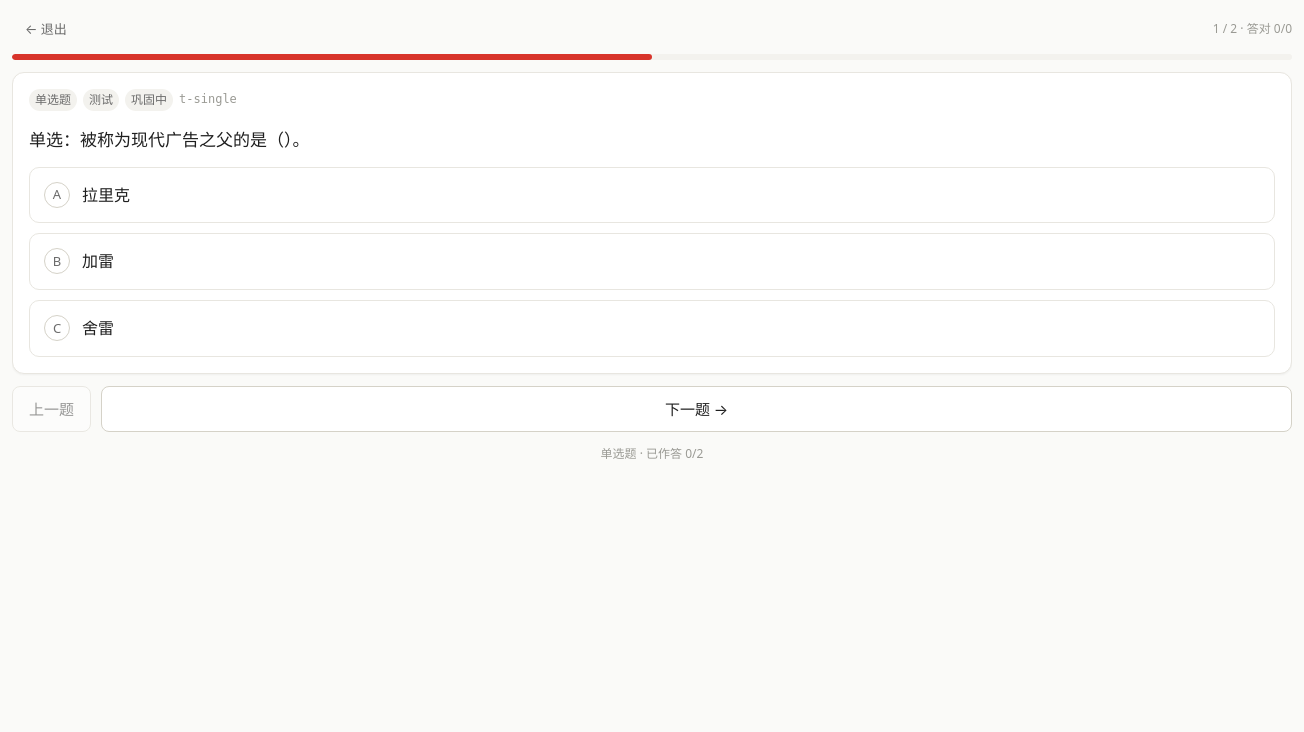
答题流程 · 下一题推进 › 选项乱序开启时，点选与判分仍然正确
// 乱序后「舍雷」仍在页面上，点它应当被判对
Click the text "舍雷": (98, 328) [82,317,114,339]
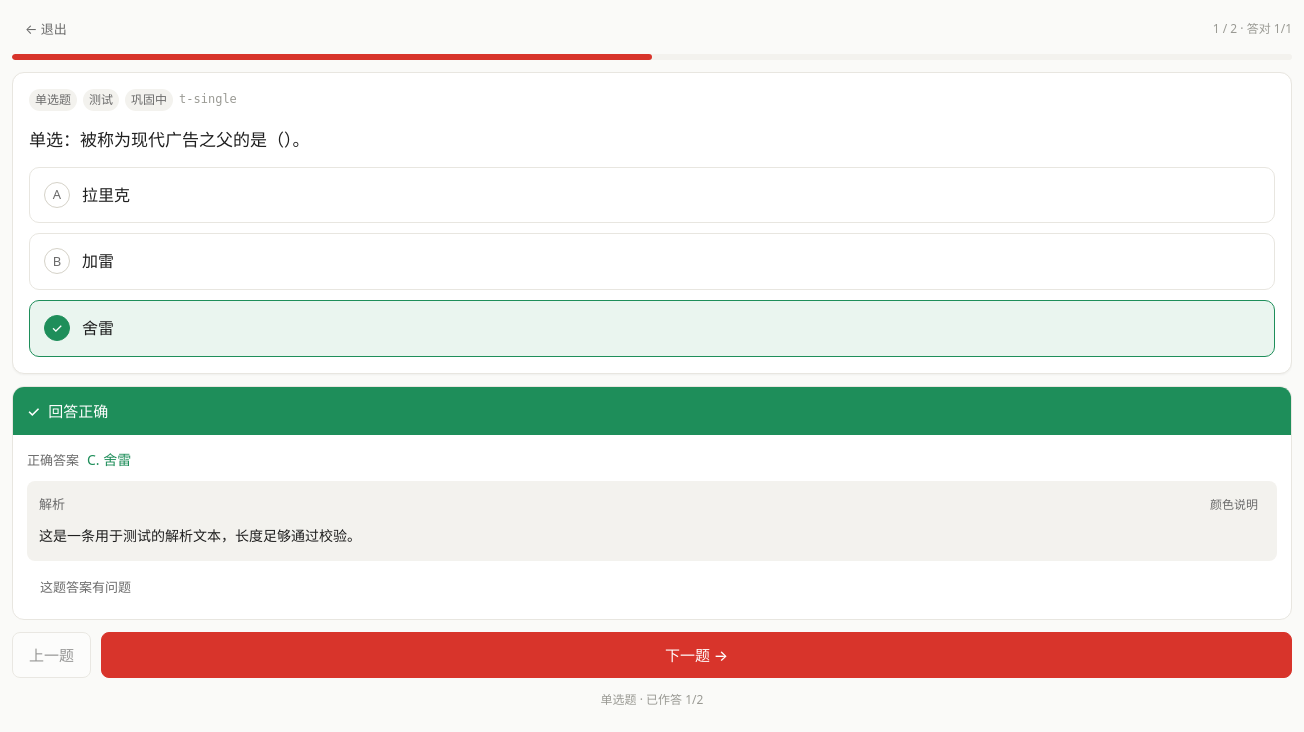
Result: the text "回答正确" is shown at [48,398,108,422]
Click the button "下一题 →": (696, 655) [101,632,1292,678]
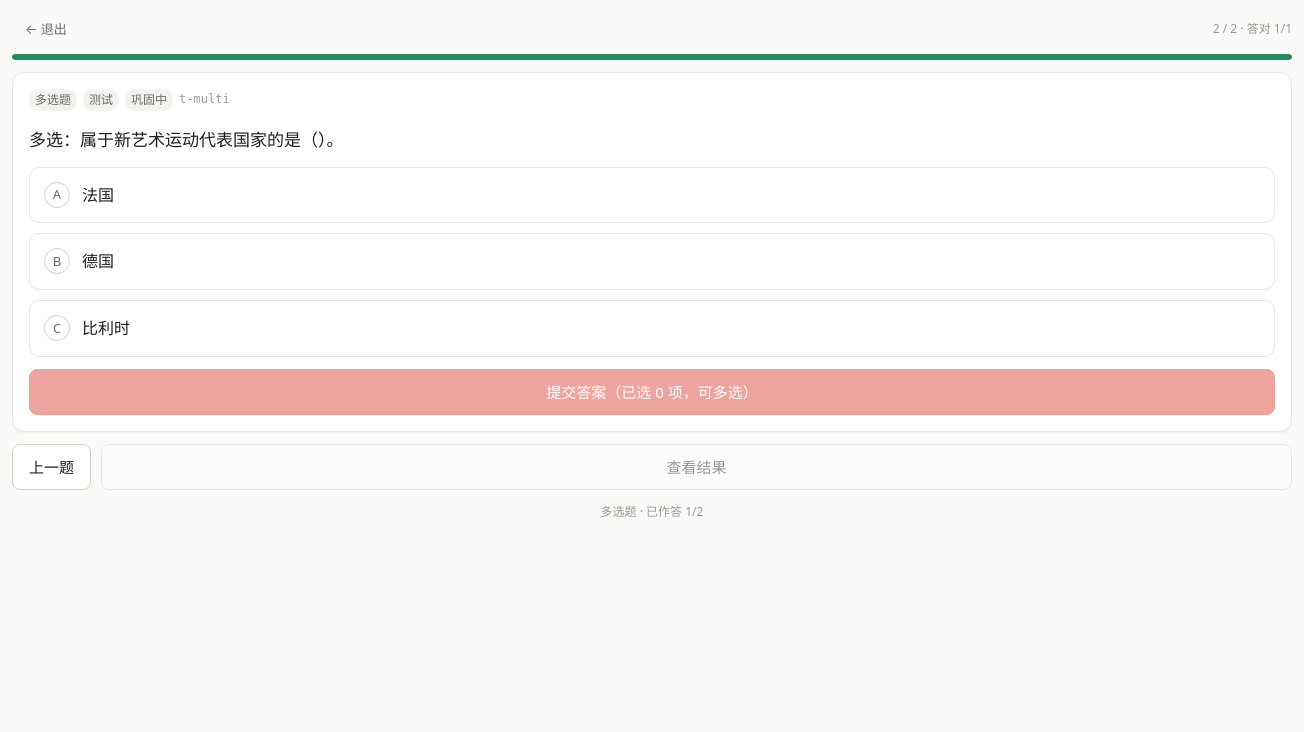
Result: the text "2 / 2 · 答对 1/1" is shown at [1213,19,1292,39]
